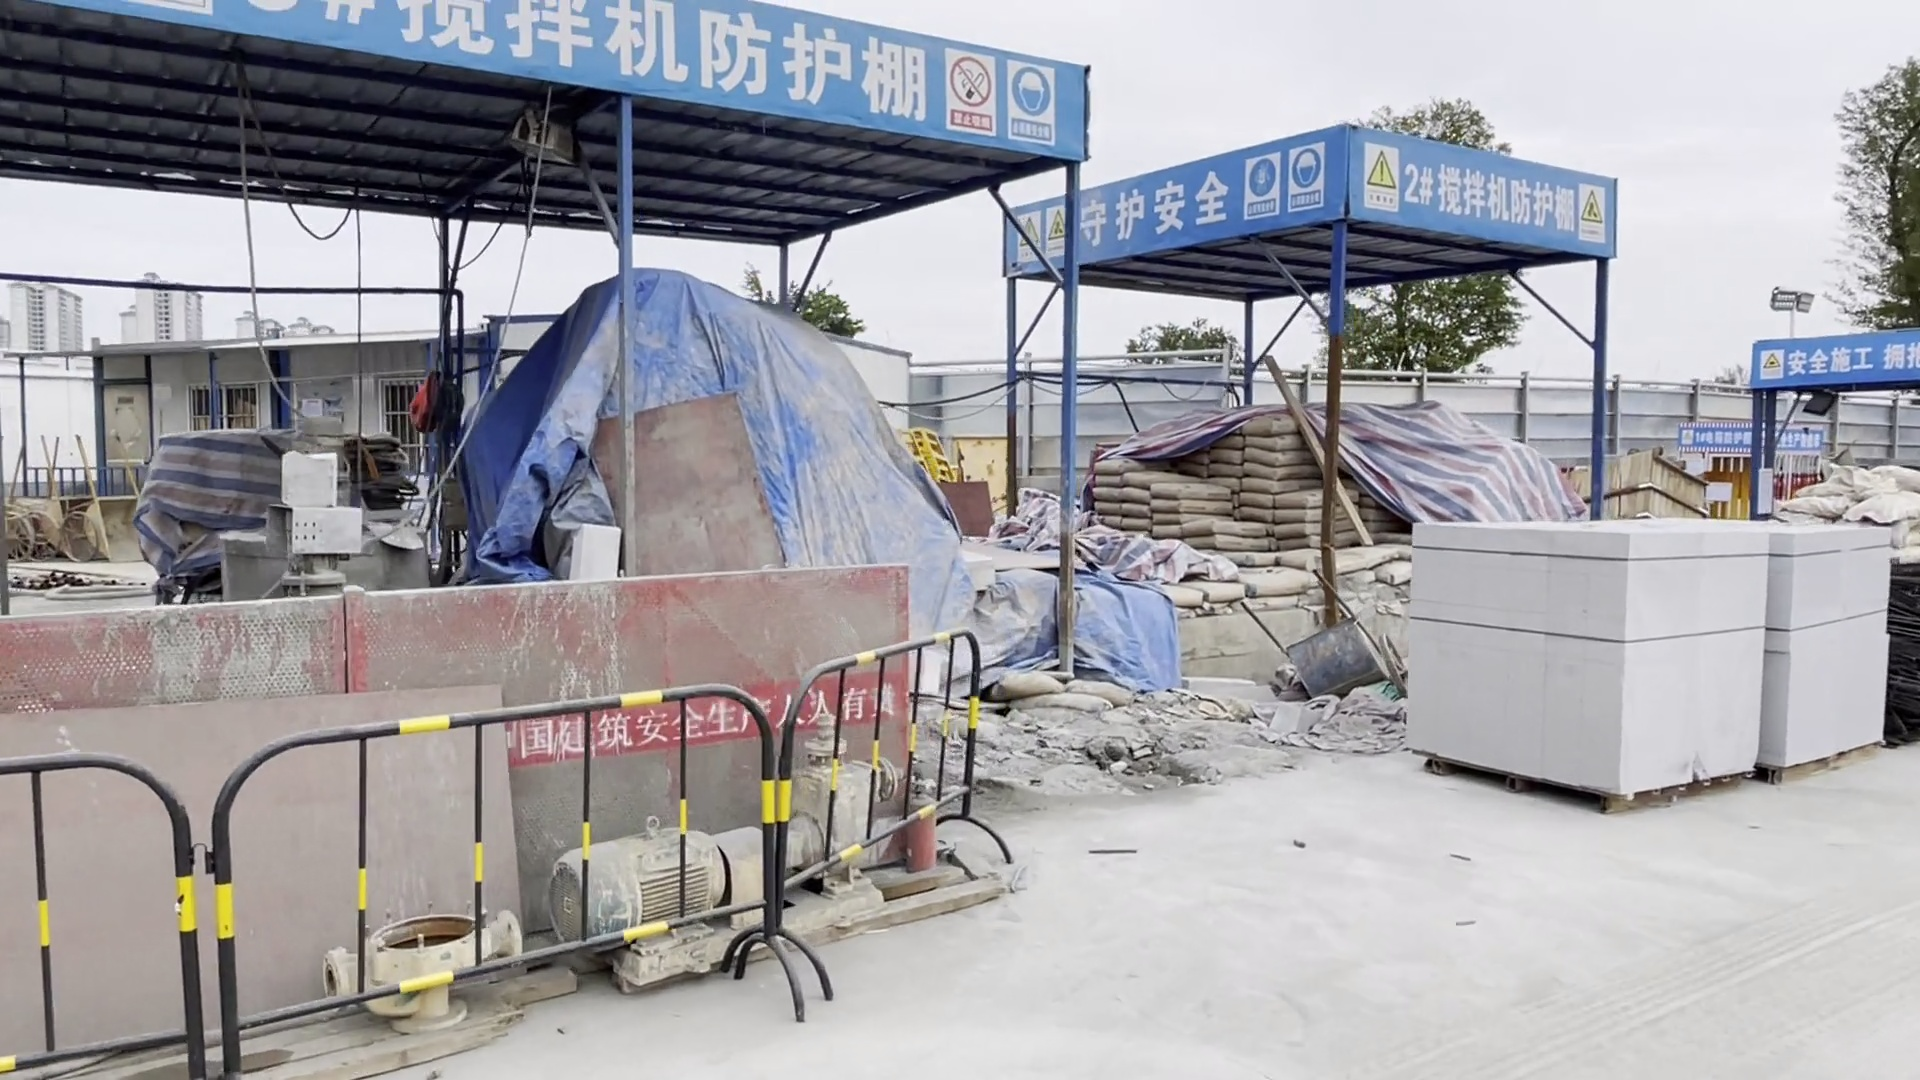brick: (1402, 514, 1754, 827), (1735, 505, 1905, 787)
ebox: (963, 433, 1031, 524)
slogan: (996, 141, 1331, 255), (938, 51, 1062, 157), (1754, 338, 1920, 388), (1353, 142, 1400, 227), (1567, 185, 1622, 235)
